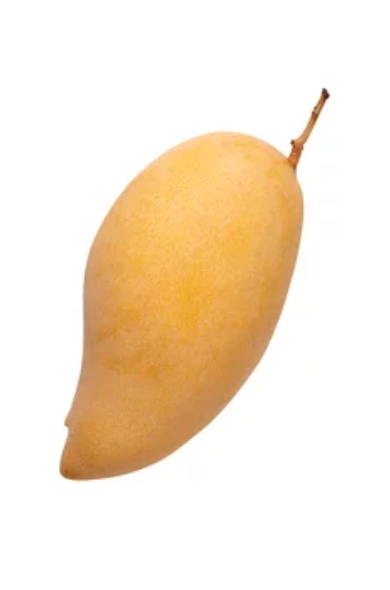mango: (59, 130, 303, 480)
